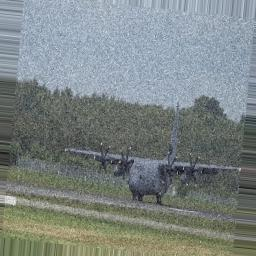Airplane: (64, 108, 241, 202)
